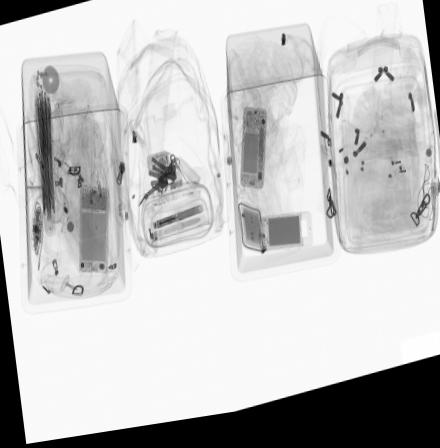Powerbank: (257, 220, 313, 263)
